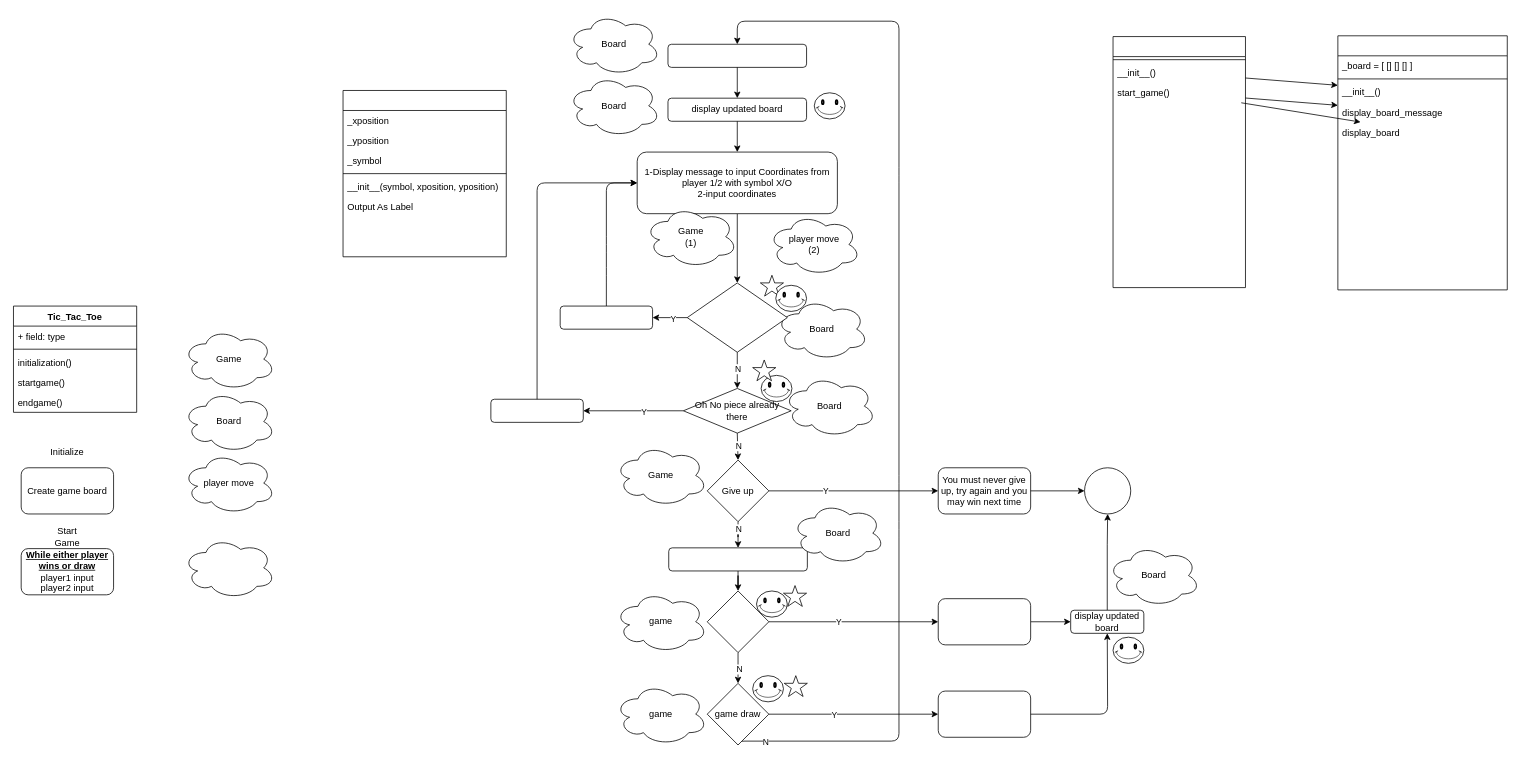
The diagram is 1521 pixels wide and 765 high, and some of its shapes have lost their labels. The box of each missing label's shape, as (x1, y1, x2, y2) in pixels:
END: (1084, 467, 1131, 514)
game won: (706, 590, 769, 653)
Game_Board: (1337, 35, 1507, 290)
Good Try, Game drawn this time, you may win next time: (937, 690, 1031, 737)
Input coordinates outside range: (686, 282, 787, 352)
Oh no, a piece is already present there: (490, 398, 583, 422)
Oh no, coordinates ouf of board: (559, 305, 653, 329)
Player_move: (342, 90, 506, 257)
print(here is the current board): (667, 44, 807, 67)
print(move accepted) assign player move on board(): (668, 547, 807, 571)
Tic Tac Toe: (1112, 36, 1245, 288)
Well done, you have won the game: (937, 598, 1031, 645)
